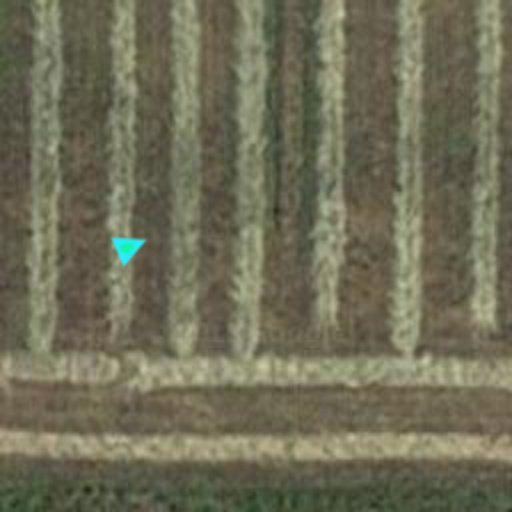triangle: (110, 224, 154, 268)
